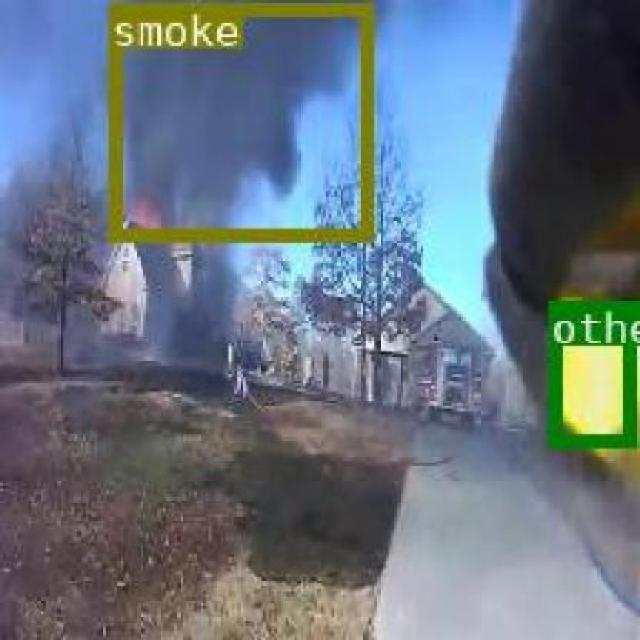Smoke: (105, 2, 370, 238)
